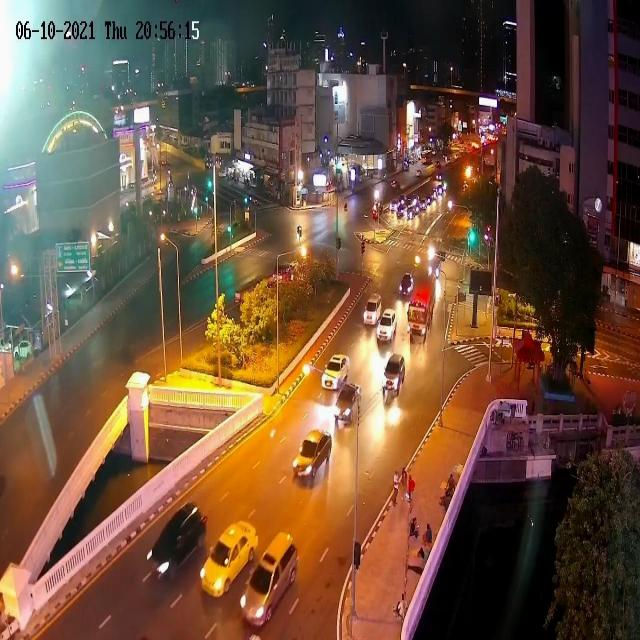Bus: (420, 149, 433, 165)
Car: (147, 502, 207, 583), (200, 519, 258, 597), (293, 427, 332, 480), (334, 383, 361, 424), (382, 353, 405, 397), (322, 353, 349, 390), (376, 308, 397, 342), (14, 339, 34, 360), (398, 272, 414, 298), (389, 200, 398, 211), (421, 198, 428, 210), (218, 170, 226, 179)
Truck: (407, 275, 436, 345)
Van: (240, 532, 298, 628), (363, 294, 382, 326)
